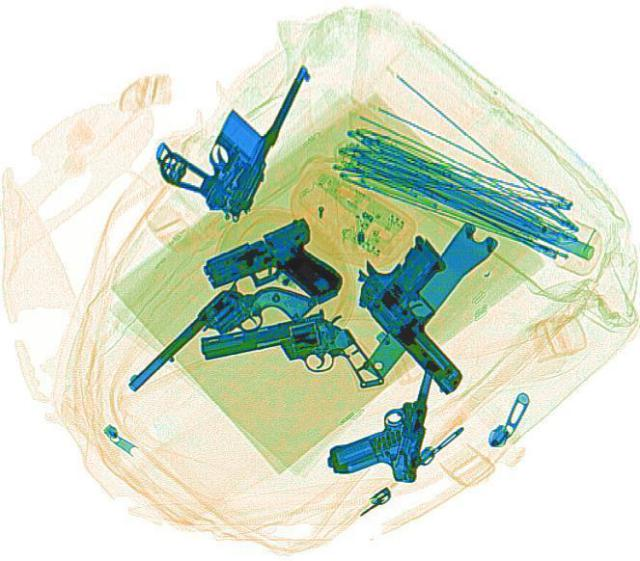Gun: (121, 258, 316, 427), (138, 37, 312, 224), (334, 228, 526, 393), (194, 299, 386, 418), (192, 214, 350, 333), (322, 348, 438, 482)
